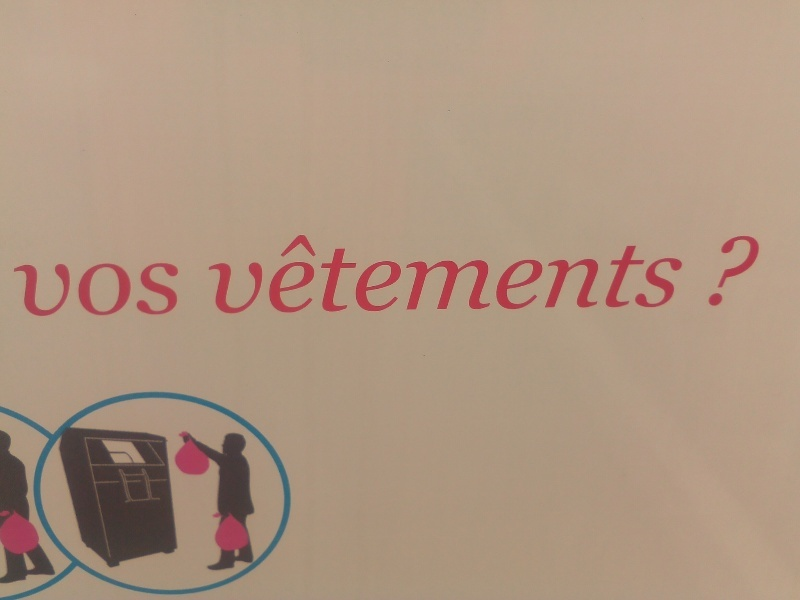text: (209, 233, 224, 317), (225, 233, 240, 317), (241, 233, 256, 317), (257, 233, 272, 317), (273, 233, 288, 317), (289, 233, 304, 317), (305, 233, 320, 317), (321, 233, 336, 317), (337, 233, 352, 317), (353, 233, 368, 317), (369, 233, 384, 317), (385, 233, 400, 317), (401, 233, 416, 317), (417, 233, 432, 317), (433, 233, 448, 317), (449, 233, 464, 317), (465, 233, 480, 317), (481, 233, 496, 317), (497, 233, 512, 317), (513, 233, 528, 317), (529, 233, 544, 317), (545, 233, 560, 317), (561, 233, 576, 317), (577, 233, 592, 317), (593, 233, 608, 317), (609, 233, 624, 317), (625, 233, 640, 317), (641, 233, 656, 317), (657, 233, 672, 317), (673, 233, 688, 317), (721, 234, 736, 309), (737, 234, 752, 309), (17, 261, 32, 318), (33, 261, 48, 318), (49, 261, 64, 318), (65, 261, 80, 318), (81, 261, 96, 318), (97, 261, 112, 318), (113, 261, 128, 318), (129, 261, 144, 318), (145, 261, 160, 318), (161, 261, 176, 318), (753, 234, 762, 309), (715, 234, 720, 309), (13, 261, 16, 318), (177, 261, 179, 318), (207, 233, 208, 317), (689, 233, 690, 317)
